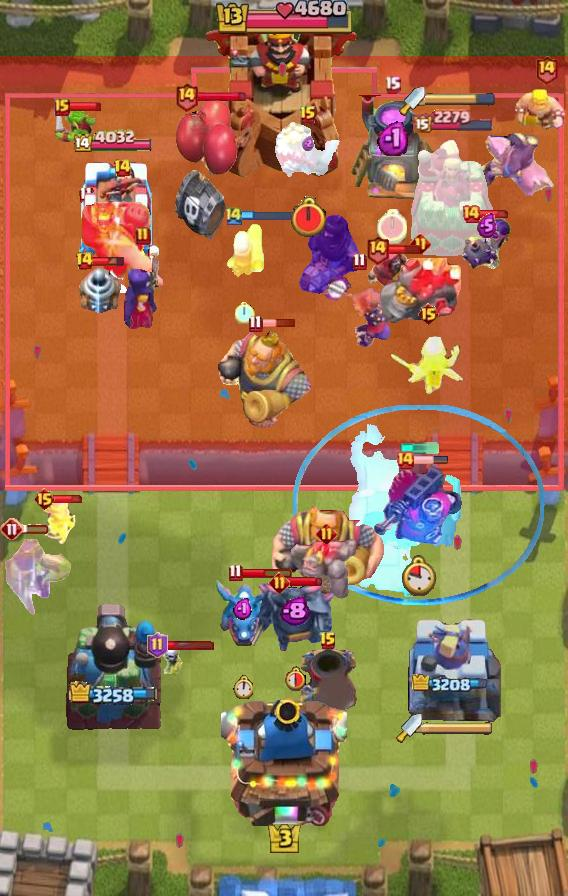archer: (512, 87, 568, 131)
axe: (120, 243, 166, 331)
bar: (405, 611, 501, 731), (409, 138, 497, 256)
barbarian-hut: (0, 534, 86, 620)
bowler: (366, 246, 416, 296)
cannon: (43, 497, 77, 545)
cannoneer-tower: (379, 258, 461, 352)
clock: (213, 0, 355, 38)
electro-spirit: (377, 119, 407, 157), (279, 597, 310, 628), (477, 213, 497, 238), (233, 598, 253, 620), (302, 136, 314, 151)
elixir: (288, 197, 327, 240), (403, 555, 438, 596), (377, 209, 407, 243), (283, 665, 306, 690), (233, 675, 253, 699), (235, 300, 255, 323)
emote: (196, 90, 248, 103), (240, 567, 293, 579), (242, 210, 294, 222), (165, 640, 215, 651), (14, 523, 50, 535), (287, 576, 323, 588), (91, 255, 126, 267), (68, 101, 102, 112), (387, 245, 421, 256), (413, 455, 449, 465), (261, 318, 296, 328), (479, 209, 511, 219), (53, 494, 85, 504)
freeze: (470, 132, 556, 196)
giant-skeleton: (270, 500, 386, 600), (210, 328, 318, 432)
goblin-ball: (460, 216, 514, 272)
goblin-drill: (72, 266, 124, 322)
golemite: (252, 581, 336, 653)
graveyard: (212, 577, 274, 649)
heal-spirit: (161, 645, 185, 677)
hunter: (347, 95, 437, 203)
ice-spirit: (398, 442, 440, 454)
inferno-dragon: (297, 212, 361, 295)
inferno-tower: (371, 463, 467, 549)
king-tower: (205, 11, 363, 181), (221, 690, 347, 826)
king-tower-bar: (422, 721, 494, 735), (425, 93, 495, 107)
lava-hound: (78, 183, 166, 293)
mortar-evolution: (274, 121, 342, 189)
musketeer: (297, 645, 359, 713)
pad_0: (292, 405, 546, 607)
poison: (384, 331, 472, 405)
queen-tower: (68, 158, 160, 256)
royal-recruit-evolution: (171, 94, 239, 244)
selected: (69, 681, 159, 708), (73, 129, 154, 155), (413, 108, 496, 133), (412, 674, 494, 696)
tesla-evolution: (326, 275, 395, 349)
text: (174, 81, 199, 112), (534, 55, 559, 85), (366, 235, 390, 266), (0, 517, 24, 541), (147, 632, 169, 658), (416, 302, 439, 326), (33, 487, 56, 511), (316, 523, 337, 545), (410, 233, 431, 254), (270, 572, 291, 593), (224, 205, 244, 226), (461, 204, 481, 224), (395, 450, 415, 470), (113, 158, 132, 178), (74, 251, 93, 271), (299, 105, 317, 125), (319, 631, 337, 651), (383, 75, 401, 93), (135, 226, 151, 246), (54, 98, 70, 116), (248, 315, 263, 333), (353, 253, 367, 272), (229, 563, 243, 581)
tombstone: (224, 221, 266, 279)
tower-bar: (64, 601, 164, 731)
valkyrie-evolution: (291, 535, 361, 601)
zap: (53, 105, 99, 155)
